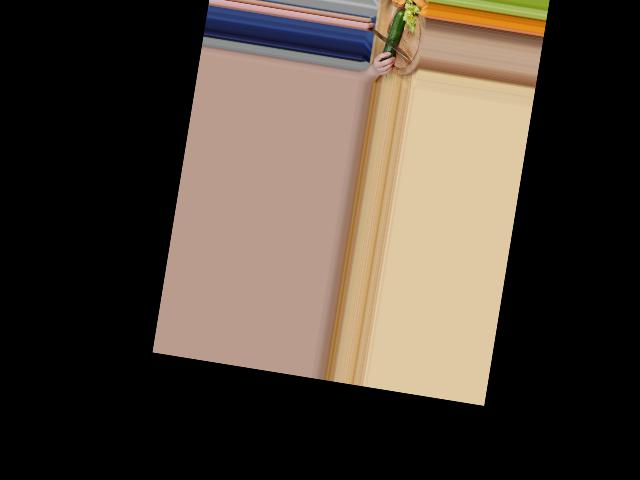cucumber: (381, 7, 406, 63)
